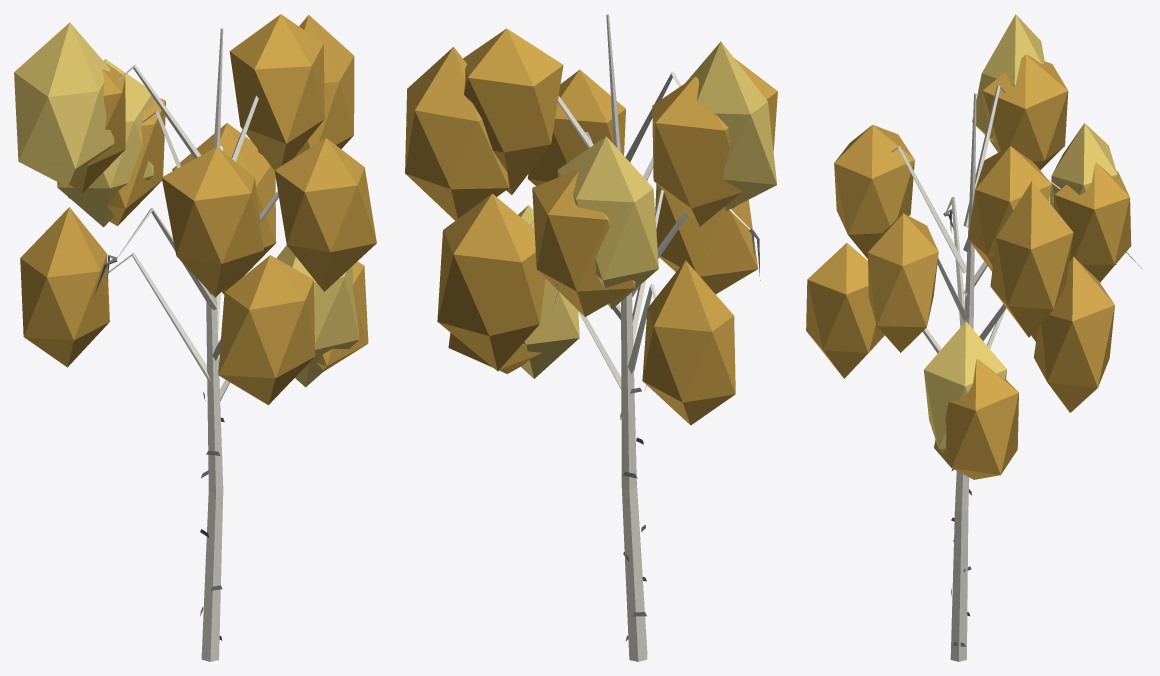
The model's file is birch_winter_light_01.glb.
3 renders of one model, left to right at view 1: azimuth 30°, elevation 25°; view 2: azimuth 150°, elevation 25°; view 3: azimuth 270°, elevation 25°, orthographic. The views are drawn at different scales.
Visible parts, largest first — view 1: Birch_winter_light_01; view 2: Birch_winter_light_01; view 3: Birch_winter_light_01.
Part boxes in pixels (bbox=[...]): Birch_winter_light_01: bbox=[14, 14, 376, 661]; Birch_winter_light_01: bbox=[405, 14, 777, 661]; Birch_winter_light_01: bbox=[806, 14, 1142, 661].
Bounding box in the file's own units: 9.55 × 16.92 × 8.77.
